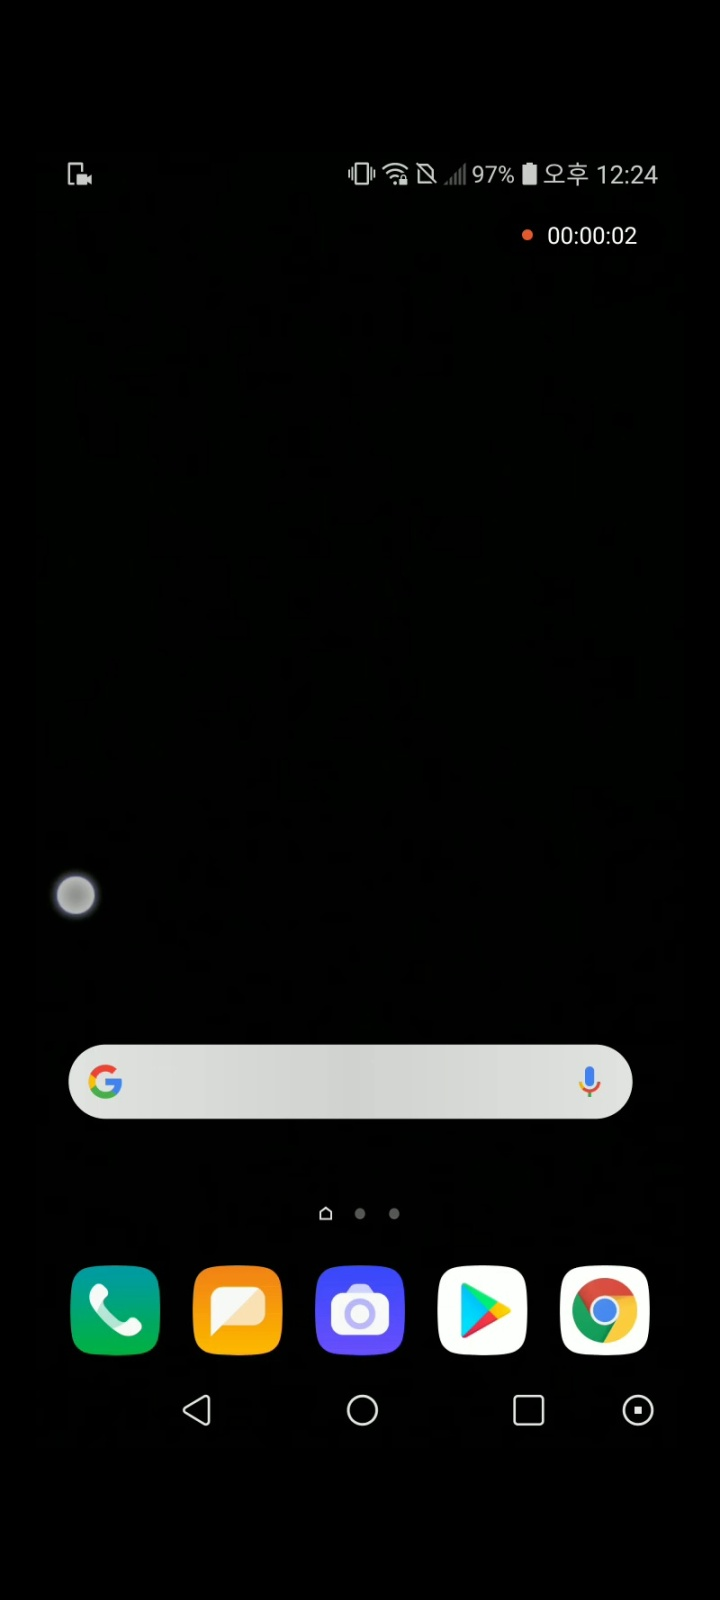Cursor: (54, 872, 99, 917)
